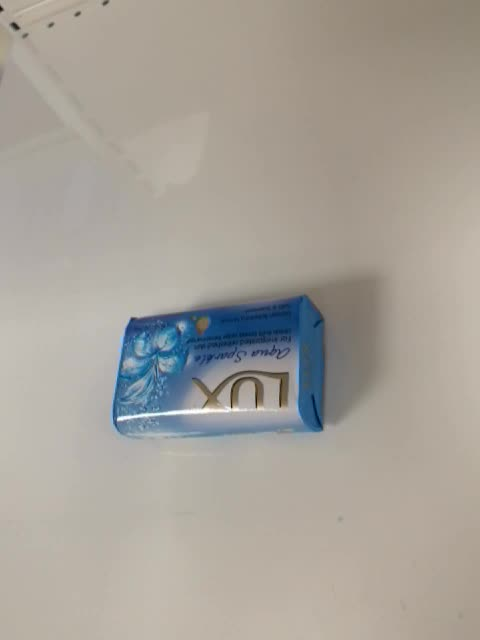soap: (111, 293, 327, 438)
